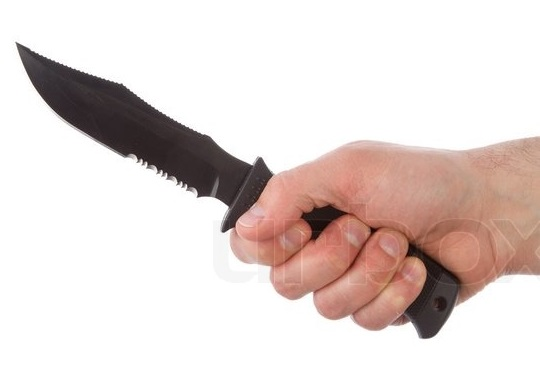knife: (9, 32, 410, 333)
